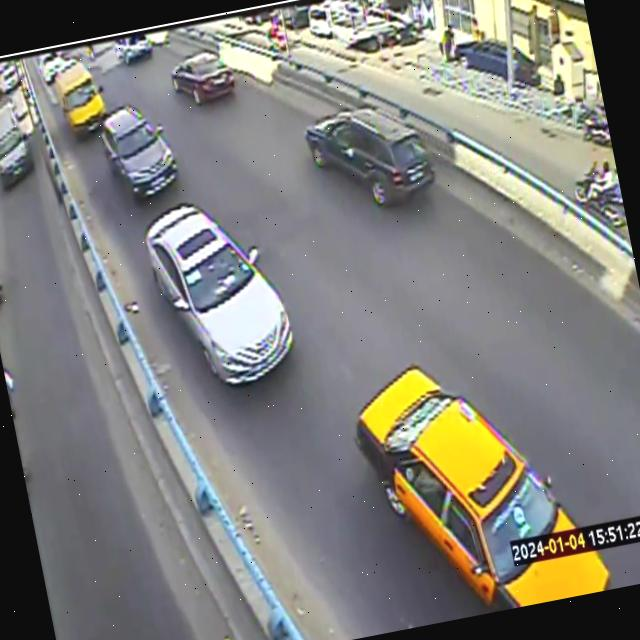car: (355, 365, 610, 611), (145, 204, 292, 385), (304, 108, 434, 205), (101, 104, 177, 199), (54, 62, 106, 135), (171, 52, 234, 104)
